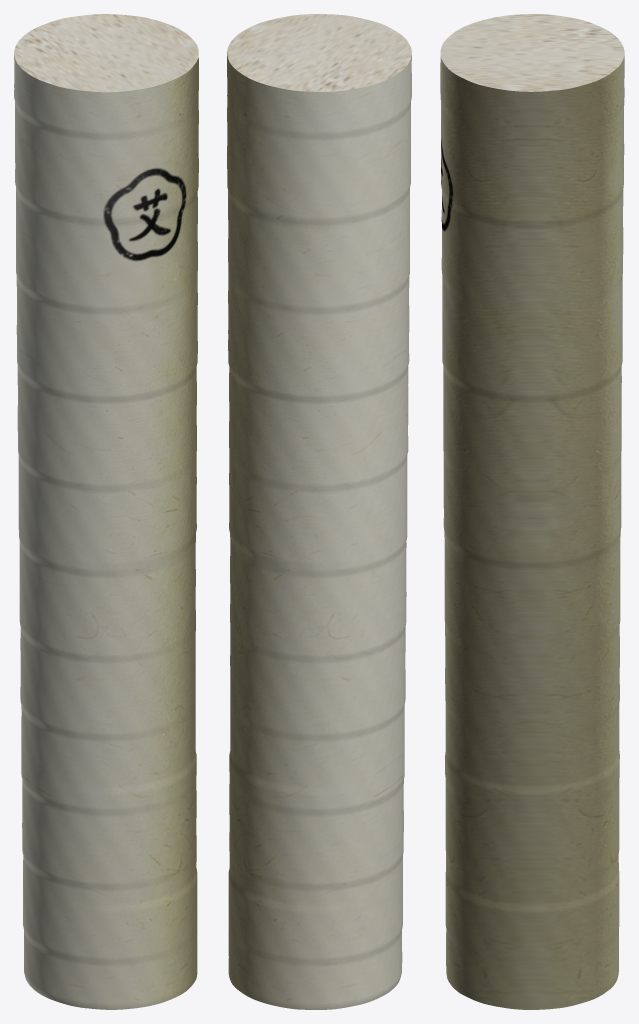
File: moxa-stick-40mm.glb
3 renders of one model, left to right at view 1: azimuth 30°, elevation 25°; view 2: azimuth 150°, elevation 25°; view 3: azimuth 270°, elevation 25°, orthographic.
Visible parts, largest first — view 1: 40mm艾条 · 正面原图logo · 背面无logo; view 2: 40mm艾条 · 正面原图logo · 背面无logo; view 3: 40mm艾条 · 正面原图logo · 背面无logo.
Part boxes in pixels (<box>): 40mm艾条 · 正面原图logo · 背面无logo: <box>14,14,198,1009</box>; 40mm艾条 · 正面原图logo · 背面无logo: <box>227,14,411,1009</box>; 40mm艾条 · 正面原图logo · 背面无logo: <box>440,14,624,1009</box>.
Bounding box in the file's own units: 0.04 × 0.22 × 0.04.
Materials: 1 (1 with a texture image).
